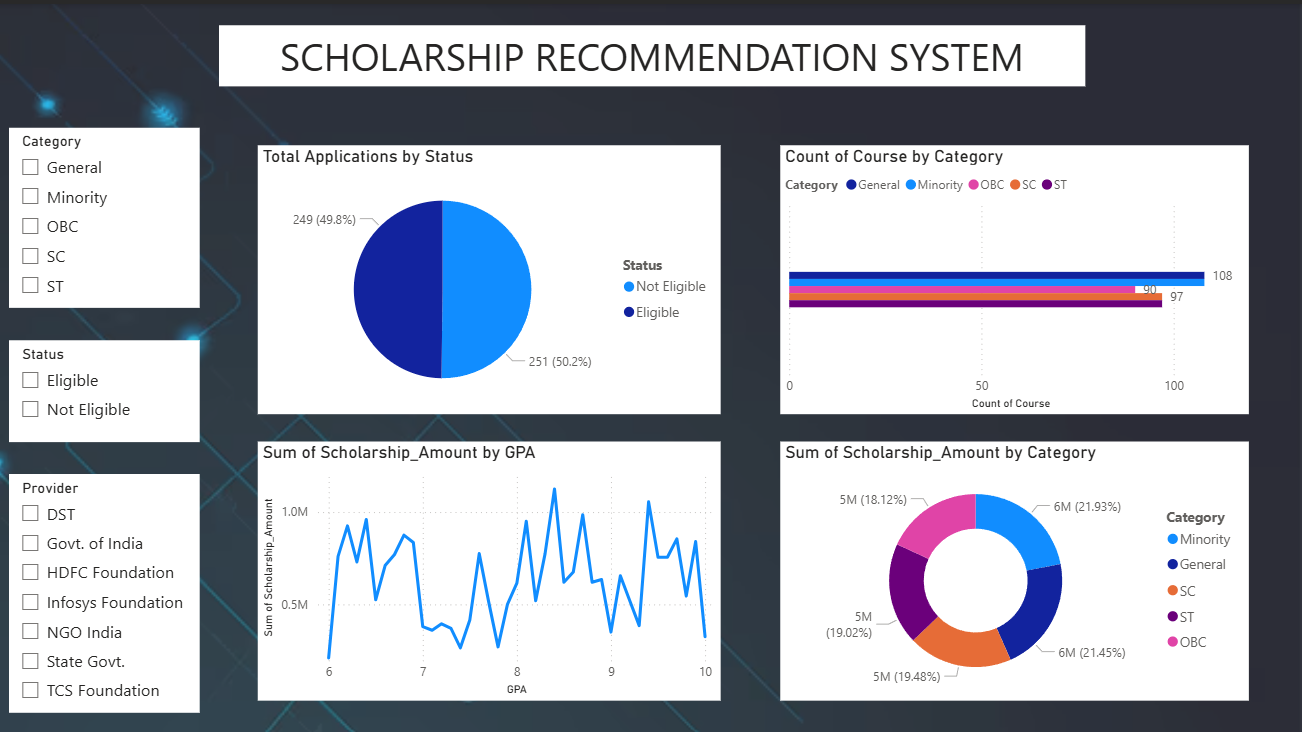

The page's visual inventory and layout, read from the dashboard file:
{"tool":"powerbi","page":{"name":"Page 1","canvas":[1280,720],"ordinal":0},"visuals":[{"type":"slicer","fields":{"Values":["scholarship_cleaned_dataset.Category"]},"box":[10,121.4,187.1,177.1],"z":0},{"type":"slicer","fields":{"Values":["scholarship_cleaned_dataset.Status"]},"box":[10,330,187.1,100],"z":1000},{"type":"slicer","fields":{"Values":["scholarship_cleaned_dataset.Provider"]},"box":[10,461.4,187.1,234.3],"z":2000},{"type":"textbox","box":[215.7,21.4,850,60],"z":3000},{"type":"pieChart","fields":{"Category":["scholarship_cleaned_dataset.Status"],"Y":["scholarship_cleaned_dataset.Total Applications"]},"box":[254.3,138.6,454.3,264.3],"z":4000},{"type":"clusteredBarChart","fields":{"Y":["CountNonNull(scholarship_cleaned_dataset.Course)"],"Series":["scholarship_cleaned_dataset.Category"]},"box":[767.1,138.6,460,264.3],"z":5000},{"type":"lineChart","fields":{"Category":["scholarship_cleaned_dataset.GPA"],"Y":["Sum(scholarship_cleaned_dataset.Scholarship_Amount)"]},"box":[254.3,430,454.3,254.3],"z":6000},{"type":"donutChart","fields":{"Category":["scholarship_cleaned_dataset.Category"],"Y":["Sum(scholarship_cleaned_dataset.Scholarship_Amount)"]},"box":[767.1,430,460,254.3],"z":7000}]}

Visuals, with their boxes in screenshot pixels (x1, y1, x2, y2), scaled from the page's 1280x720 canvas onto the 1302x732 screenshot:
slicer - scholarship_cleaned_dataset.Category: [10, 123, 200, 303]
slicer - scholarship_cleaned_dataset.Status: [10, 336, 200, 437]
slicer - scholarship_cleaned_dataset.Provider: [10, 469, 200, 707]
textbox: [219, 22, 1084, 83]
pieChart - scholarship_cleaned_dataset.Status x scholarship_cleaned_dataset.Total Applications: [259, 141, 721, 410]
clusteredBarChart - CountNonNull(scholarship_cleaned_dataset.Course) x scholarship_cleaned_dataset.Category: [780, 141, 1248, 410]
lineChart - scholarship_cleaned_dataset.GPA x Sum(scholarship_cleaned_dataset.Scholarship_Amount): [259, 437, 721, 696]
donutChart - scholarship_cleaned_dataset.Category x Sum(scholarship_cleaned_dataset.Scholarship_Amount): [780, 437, 1248, 696]
